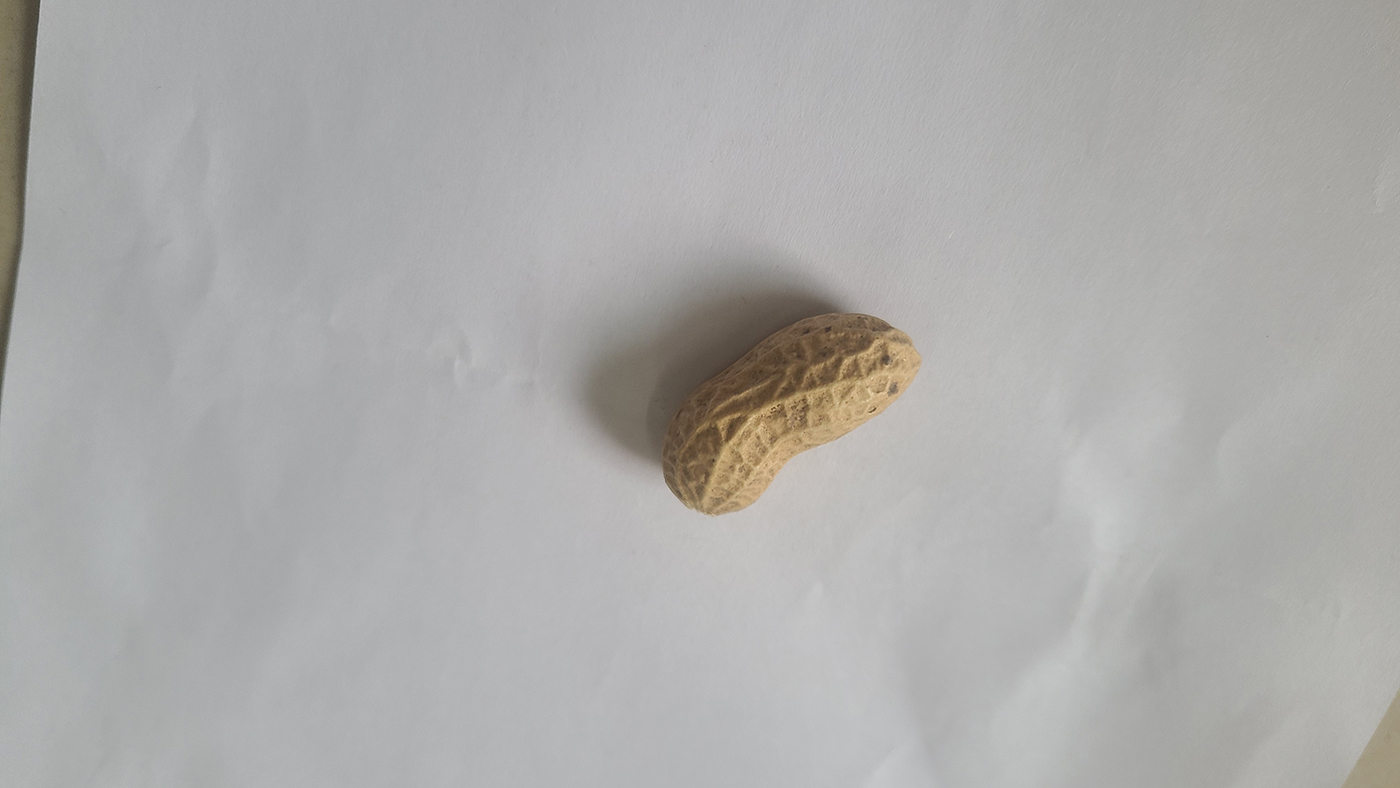h: (660, 308, 918, 516)
